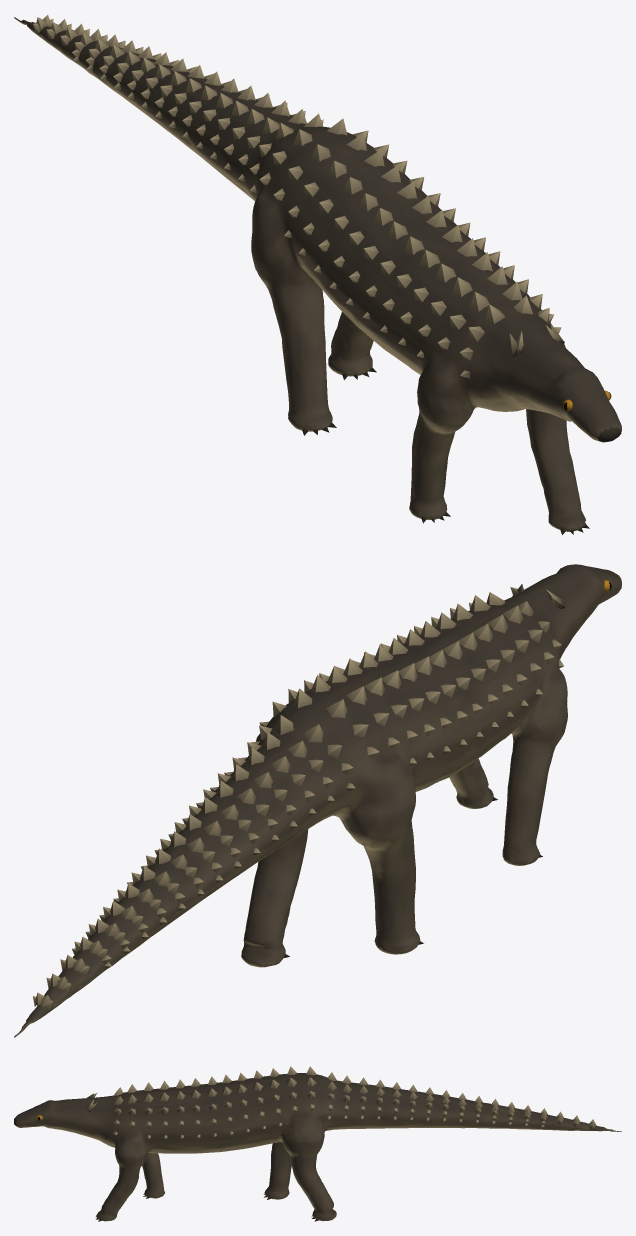
Rendered from Scelidosaurus.fbx.
3 views of the same model, one above another, from view 1: azimuth 30°, elevation 25°; view 2: azimuth 150°, elevation 25°; view 3: azimuth 270°, elevation 25° (orthographic). The views are drawn at different scales.
Parts seen in each view (by area): view 1: Scelidosaurus; view 2: Scelidosaurus; view 3: Scelidosaurus.
Part boxes in pixels (box(x1,y1,x2,y2)): Scelidosaurus: box(14, 15, 621, 534); Scelidosaurus: box(14, 564, 621, 1037); Scelidosaurus: box(14, 1066, 621, 1221).
Bounding box in the file's own units: 0.5205 × 0.8864 × 3.56.
